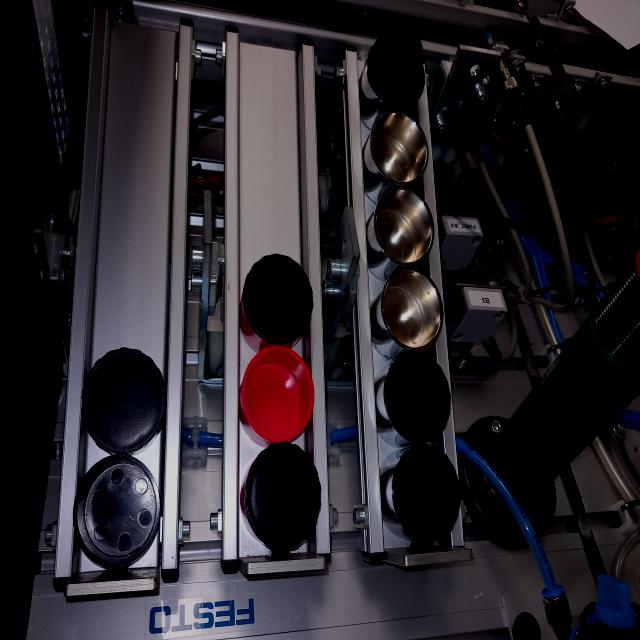NoLid: (74, 459, 162, 570), (234, 357, 323, 448), (367, 186, 436, 270), (385, 275, 449, 351), (368, 101, 423, 189)
Workpiece: (228, 434, 335, 552), (82, 349, 172, 456), (376, 351, 454, 452), (236, 254, 312, 353), (385, 448, 457, 546), (363, 36, 424, 109)
